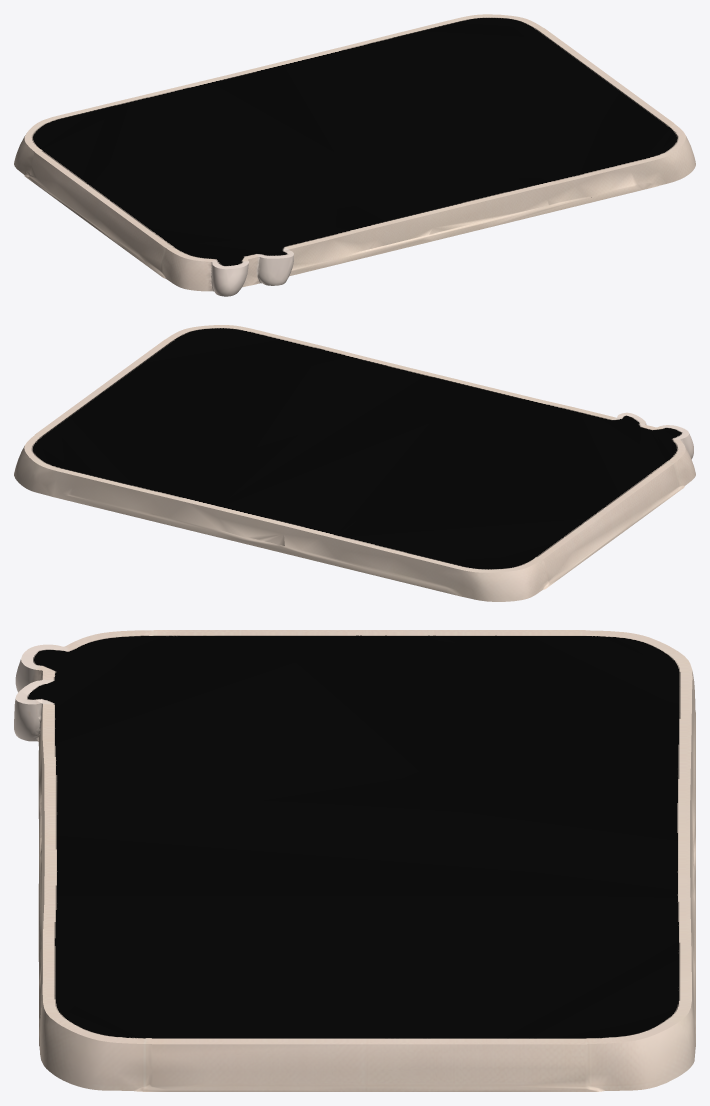
File: 7-roof.fbx
3 renders of one model, top to bottom at view 1: azimuth 30°, elevation 25°; view 2: azimuth 150°, elevation 25°; view 3: azimuth 270°, elevation 25°, orthographic. The views are drawn at different scales.
Visible parts, largest first — view 1: roof; view 2: roof; view 3: roof.
Part boxes in pixels (bbox=[...]): roof: bbox=[14, 14, 695, 296]; roof: bbox=[14, 325, 695, 601]; roof: bbox=[14, 630, 695, 1091].
Bounding box in the file's own units: 7423 × 350 × 5047.
Materials: 1 (1 with a texture image).
